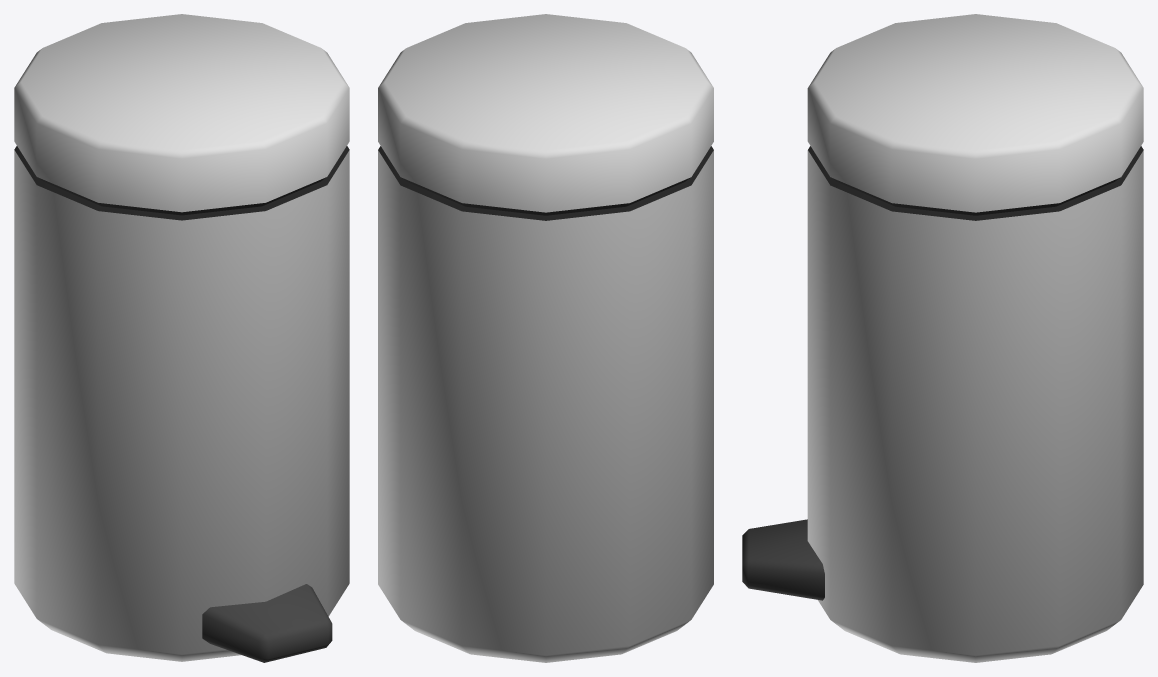
The model's file is bathroom_018.fbx.
3 views of the same model, side by side, from view 1: azimuth 30°, elevation 25°; view 2: azimuth 150°, elevation 25°; view 3: azimuth 270°, elevation 25° (orthographic).
Parts seen in each view (by area): view 1: bathroom_018; view 2: bathroom_018; view 3: bathroom_018.
Boxes of the visible parts, left/top/right/bottom form: bathroom_018: left=14, top=14, right=349, bottom=662; bathroom_018: left=378, top=14, right=713, bottom=662; bathroom_018: left=742, top=14, right=1143, bottom=662.
Bounding box in the file's own units: 34.63 × 41.4 × 58.8.
